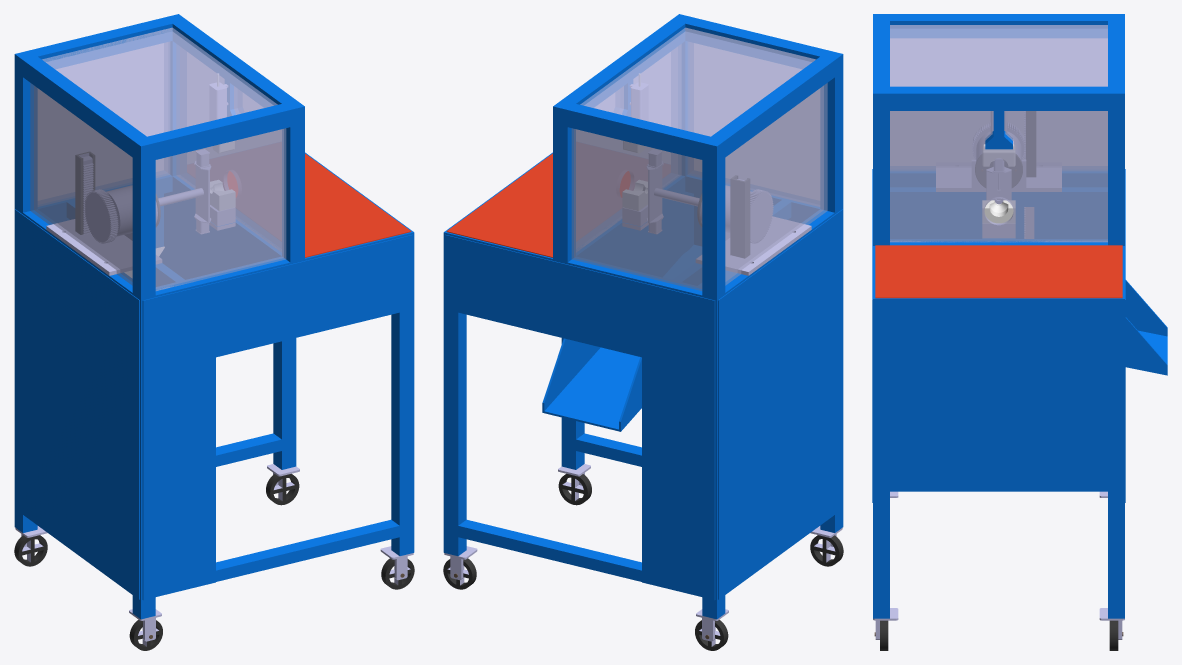
File: Scene_Decarottage_FBX.fbx
3 views of the same model, side by side, from view 1: azimuth 30°, elevation 25°; view 2: azimuth 150°, elevation 25°; view 3: azimuth 270°, elevation 25° (orthographic).
Parts seen in each view (by area): view 1: support_decrottage001, Plaque_Lateral_decarotage001, Plaque_haut_decarottage, Plaque_arriere_decarotage, Plaque_Lateral_decarotage, Plaque_Frontale, support_moteur_decarotage, engrenage_decarotage, roue-convoyeur002, roue-convoyeur001, roue-convoyeur003, roue-convoyeur (+1 smaller); view 2: support_decrottage001, Plaque_Lateral_decarotage, Plaque_haut_decarottage, Plaque_arriere_decarotage, Plaque_Lateral_decarotage001, Plaque_Frontale, support_moteur_decarotage, engrenage_decarotage, roue-convoyeur001, roue-convoyeur002, roue-convoyeur, roue-convoyeur003 (+1 smaller); view 3: support_decrottage001, Plaque_Frontale, Plaque_arriere_decarotage, Plaque_haut_decarottage, support_moteur_decarotage, engrenage_decarotage, support_decrottage, roue-convoyeur002, roue-convoyeur001, haut_part_decarotage, support_decrottage002.
Boxes of the visible parts, x1,y1,x2,y2 form: support_decrottage001: (14,14,414,619); Plaque_Lateral_decarotage001: (155,128,286,290); Plaque_haut_decarottage: (42,27,277,136); Plaque_arriere_decarotage: (30,83,132,285); Plaque_Lateral_decarotage: (38,42,167,204); Plaque_Frontale: (177,47,281,251); support_moteur_decarotage: (46,152,161,275); engrenage_decarotage: (85,149,210,243); roue-convoyeur002: (266,464,299,505); roue-convoyeur001: (380,546,414,589); roue-convoyeur003: (14,526,47,566); roue-convoyeur: (129,609,162,650); support_decrottage001: (443,14,843,619); Plaque_Lateral_decarotage: (571,128,702,290); Plaque_haut_decarottage: (580,27,815,136); Plaque_arriere_decarotage: (725,83,827,285); Plaque_Lateral_decarotage001: (690,42,819,206); Plaque_Frontale: (576,47,679,248); support_moteur_decarotage: (696,175,811,275); engrenage_decarotage: (647,149,773,243); roue-convoyeur001: (558,464,591,505); roue-convoyeur002: (443,546,477,589); roue-convoyeur: (810,526,843,566); roue-convoyeur003: (695,609,728,650); support_decrottage001: (872,14,1167,618); Plaque_Frontale: (890,111,1107,242); Plaque_arriere_decarotage: (890,39,1107,169); Plaque_haut_decarottage: (890,25,1107,86); support_moteur_decarotage: (936,111,1061,191); engrenage_decarotage: (972,123,1024,204); support_decrottage: (982,200,1015,223); roue-convoyeur002: (1099,608,1124,650); roue-convoyeur001: (873,608,898,650); haut_part_decarotage: (982,144,1015,166); support_decrottage002: (982,224,1015,237).
Size of what is drawn, in the model's own units: 77 by 134 by 70.4.
